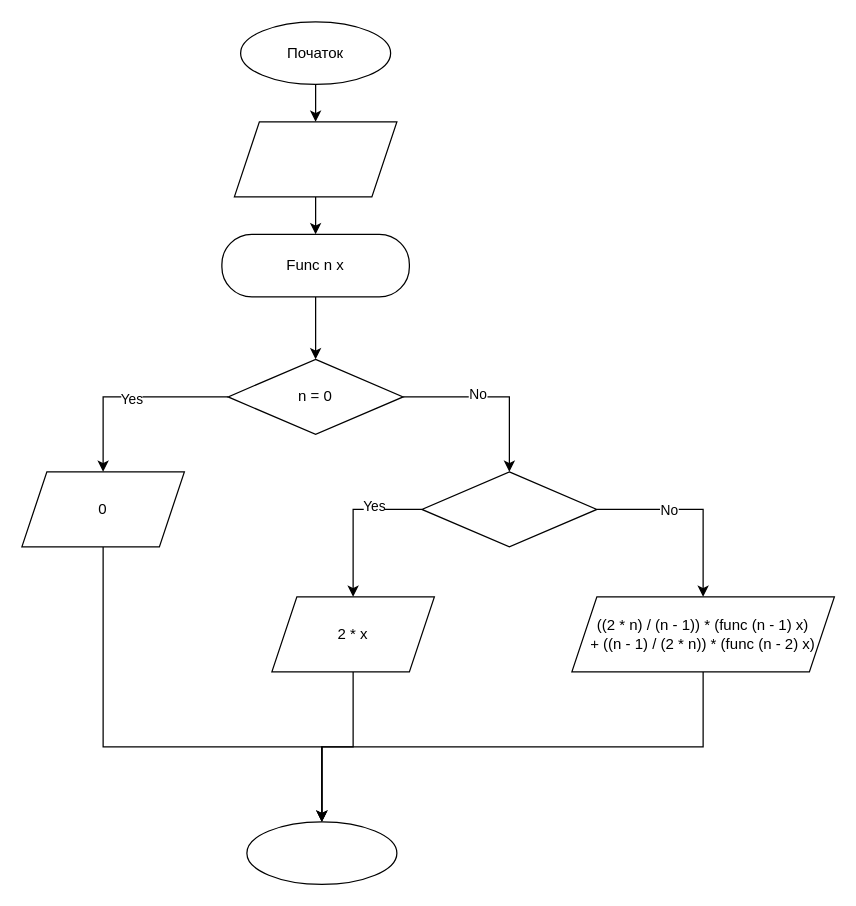
The diagram is 856 pixels wide and 906 high, and some of its shapes have lost their labels. Here are the shapes that lost their labels. From the top down, the box of each, then its label:
(233, 121, 397, 197): Введення n x
(421, 471, 597, 547): n = 1
(246, 821, 397, 884): Кінець
